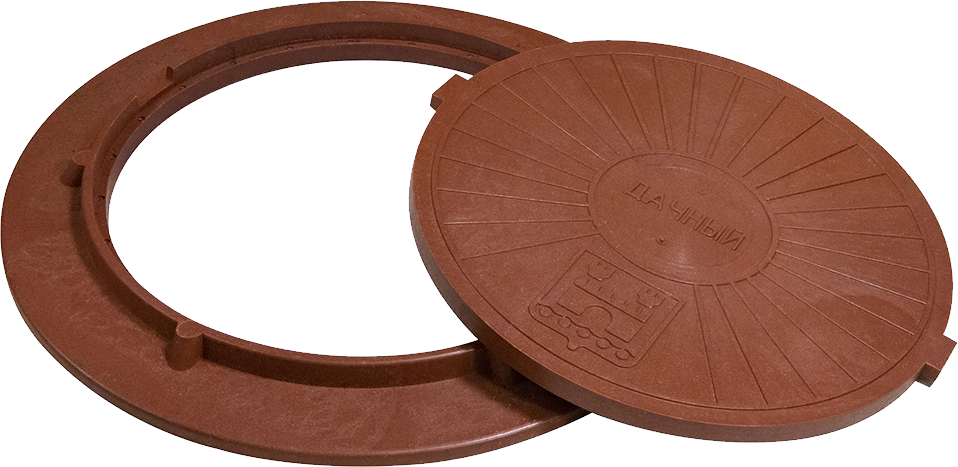Open_manhole: (10, 8, 957, 467)
